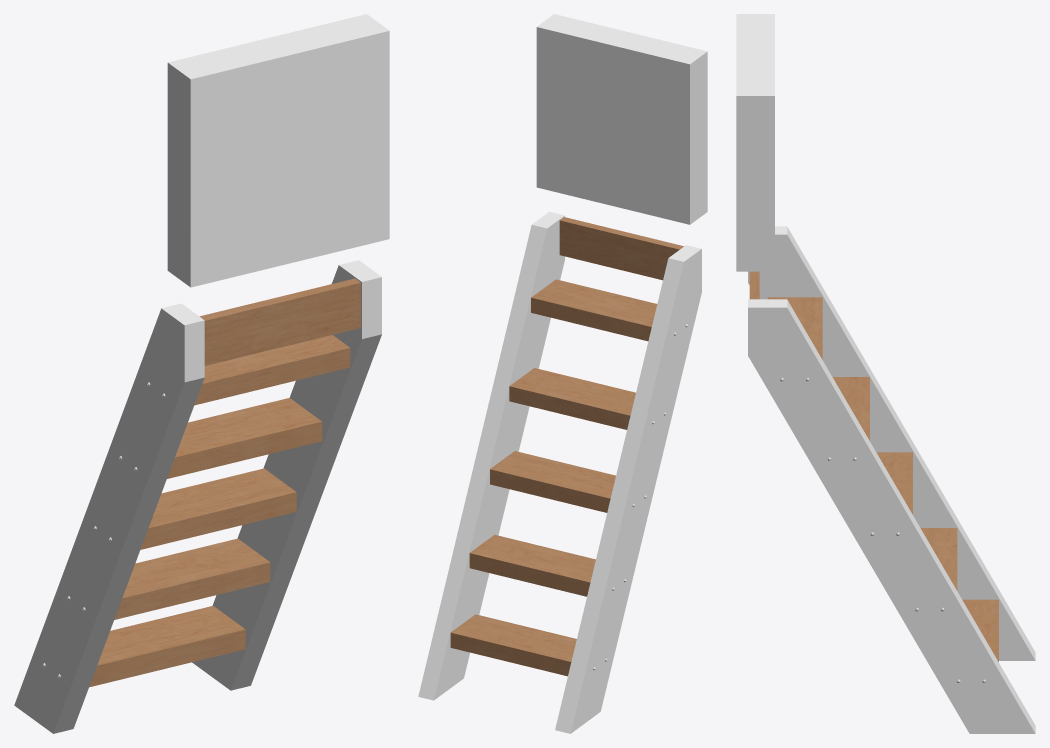
File: P-STEP-4.d20a7404.glb
3 renders of one model, left to right at view 1: azimuth 30°, elevation 25°; view 2: azimuth 150°, elevation 25°; view 3: azimuth 270°, elevation 25°, orthographic. The views are drawn at different scales.
Parts seen in each view (by area): view 1: Joint_!,0,5, Cube339,_colorize_, Cube339_1; view 2: Cube339,_colorize_, Joint_!,0,5, Cube339_1; view 3: Cube339,_colorize_, Joint_!,0,5, Cube339_1.
Boxes of the visible parts, box(x1,y1,x2,y2) form: Joint_!,0,5: box(167, 14, 389, 287); Cube339,_colorize_: box(14, 260, 381, 733); Cube339_1: box(89, 278, 360, 687); Cube339,_colorize_: box(418, 211, 701, 733); Joint_!,0,5: box(536, 14, 707, 224); Cube339_1: box(450, 217, 683, 676); Cube339,_colorize_: box(748, 226, 1035, 733); Joint_!,0,5: box(736, 14, 774, 271); Cube339_1: box(749, 271, 998, 662).
Size of the model in its own units: 0.5082 by 1.82 by 0.7713.
Materials: 4 (1 with a texture image).
